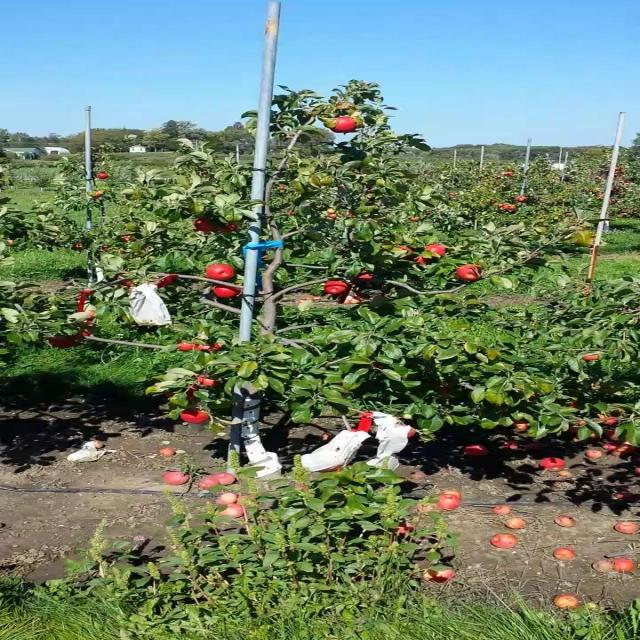apple: (204, 264, 236, 281), (456, 264, 482, 281), (180, 409, 209, 424), (49, 335, 80, 349), (331, 116, 358, 132), (598, 409, 624, 425), (324, 280, 351, 295), (213, 285, 240, 299), (193, 218, 216, 232), (156, 274, 178, 288), (196, 375, 218, 388), (424, 244, 447, 256), (184, 384, 200, 401), (196, 342, 224, 351), (598, 414, 620, 425), (216, 222, 240, 232), (569, 419, 587, 432), (356, 270, 376, 281), (513, 420, 531, 432), (602, 428, 618, 440), (178, 341, 196, 351), (413, 255, 433, 264), (318, 465, 342, 472), (80, 310, 96, 319), (582, 354, 600, 361), (118, 278, 133, 286), (407, 428, 418, 437), (564, 401, 578, 408), (78, 330, 91, 337), (589, 432, 600, 439), (166, 392, 176, 399)
